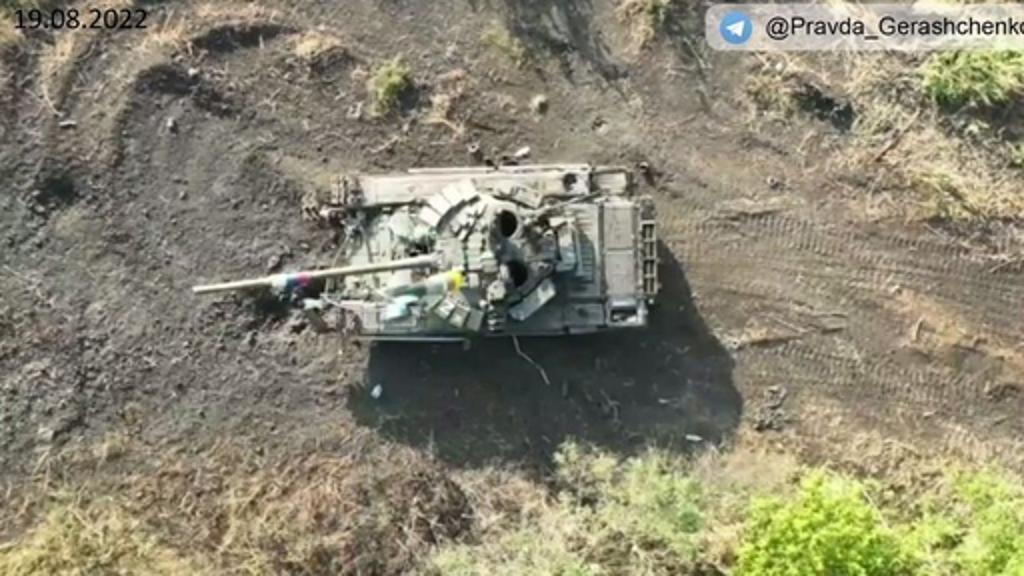TANK: (184, 152, 662, 348)
